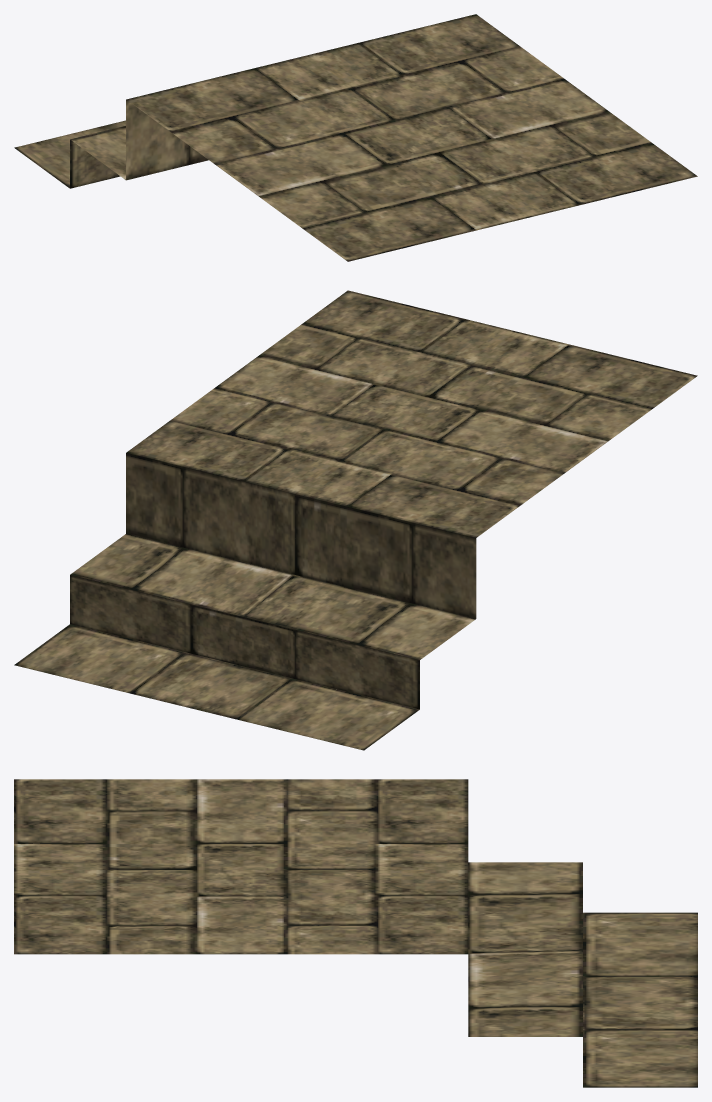
Rendered from OVERHILL_A_01_OBJECT326.fbx.
The picture shows the model from 3 angles, top to bottom: view 1: azimuth 30°, elevation 25°; view 2: azimuth 150°, elevation 25°; view 3: azimuth 270°, elevation 25°; orthographic projection. The views are drawn at different scales.
Visible parts, largest first — view 1: OVERHILL_A_01_OBJECT326; view 2: OVERHILL_A_01_OBJECT326; view 3: OVERHILL_A_01_OBJECT326.
Part boxes in pixels (x1=…): OVERHILL_A_01_OBJECT326: x1=14, y1=14, x2=697, y2=261; OVERHILL_A_01_OBJECT326: x1=14, y1=290, x2=697, y2=750; OVERHILL_A_01_OBJECT326: x1=14, y1=779, x2=697, y2=1087.
Bounding box in the file's own units: 36360 × 12938 × 60089.
Materials: 1 (1 with a texture image).
